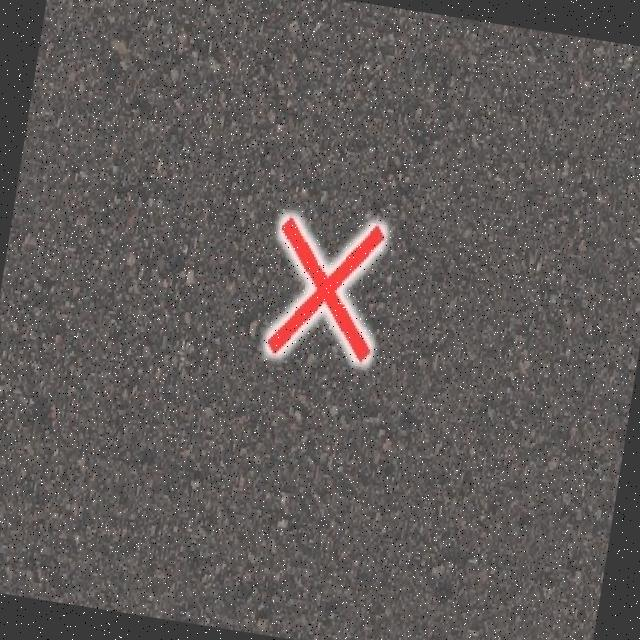x_marker: (262, 210, 388, 366)
